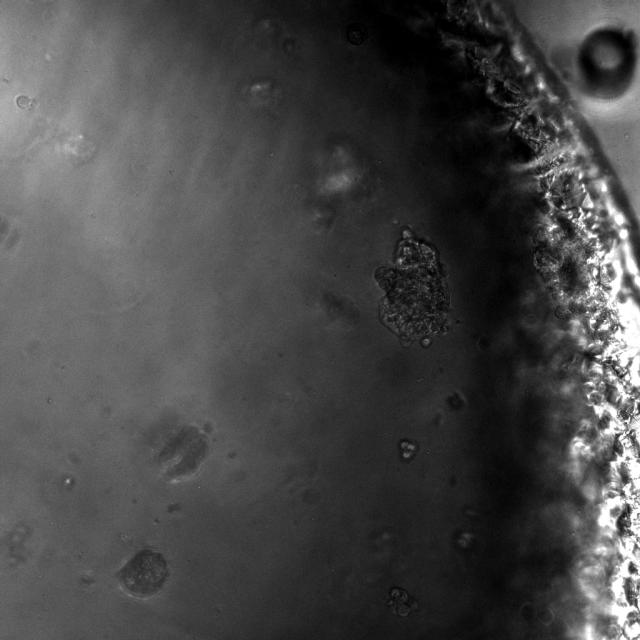organoid: (374, 227, 451, 348), (158, 425, 209, 482), (117, 549, 168, 597), (387, 587, 418, 616), (398, 438, 419, 462), (16, 95, 37, 109)
